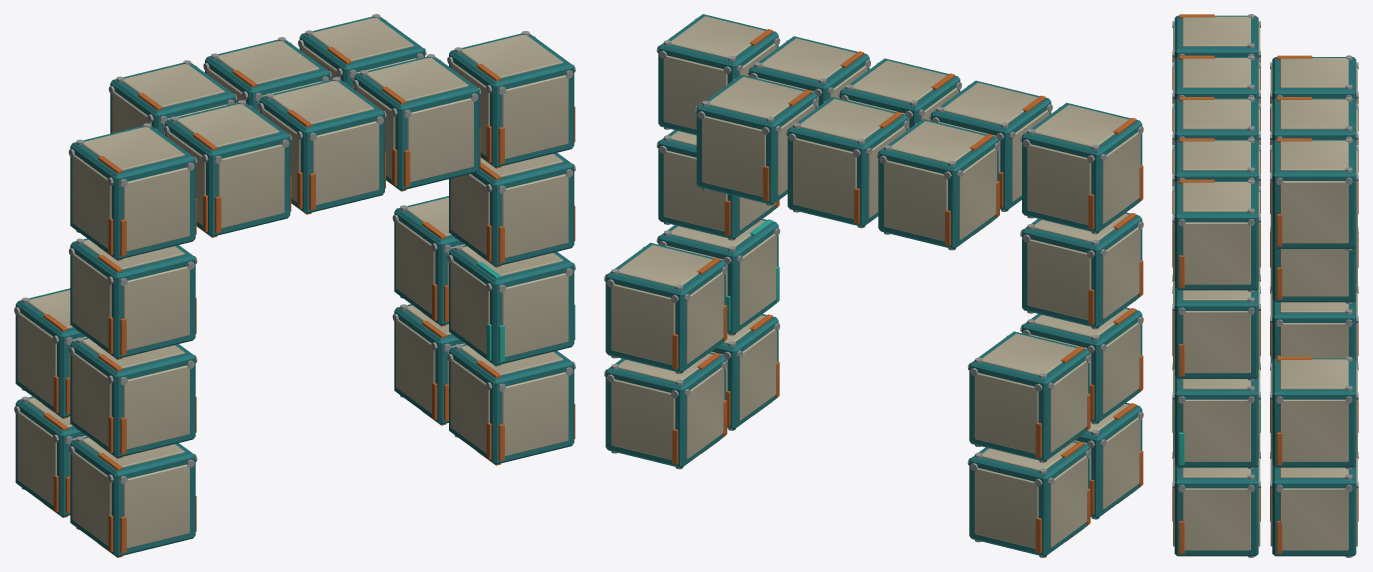
The model's file is voxel-arch02.glb.
The picture shows the model from 3 angles, left to right: view 1: azimuth 30°, elevation 25°; view 2: azimuth 150°, elevation 25°; view 3: azimuth 270°, elevation 25°; orthographic projection. The views are drawn at different scales.
Visible parts, largest first — view 1: b03__certified_body, b12__certified_body, core__certified_body, b00__certified_body, b02__certified_body, b01__certified_body, b15__certified_body, b06__certified_body, b08__certified_body, b10__certified_body, b14__certified_body, b05__certified_body (+6 smaller); view 2: b17__certified_body, b07__certified_body, b05__certified_body, b03__certified_body, b16__certified_body, b04__certified_body, b02__certified_body, b11__certified_body, b09__certified_body, b15__certified_body, b01__certified_body, core__certified_body (+6 smaller); view 3: b15__certified_body, b11__certified_body, b17__certified_body, b12__certified_body, b16__certified_body, b14__certified_body, core__certified_body, b04__certified_body, b05__certified_body, b07__certified_body, b03__certified_body, b06__certified_body (+3 smaller).
Boxes of the visible parts, bbox=[...] form: b03__certified_body: bbox=[68, 123, 197, 260]; b12__certified_body: bbox=[447, 344, 575, 465]; core__certified_body: bbox=[447, 245, 575, 366]; b00__certified_body: bbox=[68, 436, 197, 557]; b02__certified_body: bbox=[68, 238, 197, 359]; b01__certified_body: bbox=[68, 337, 197, 458]; b15__certified_body: bbox=[447, 31, 575, 168]; b06__certified_body: bbox=[163, 100, 291, 237]; b08__certified_body: bbox=[258, 77, 386, 214]; b10__certified_body: bbox=[352, 54, 481, 191]; b14__certified_body: bbox=[449, 153, 575, 267]; b05__certified_body: bbox=[14, 288, 86, 418]; b17__certified_body: bbox=[604, 242, 727, 373]; b07__certified_body: bbox=[877, 119, 1000, 250]; b05__certified_body: bbox=[967, 331, 1091, 462]; b03__certified_body: bbox=[1020, 102, 1143, 234]; b16__certified_body: bbox=[604, 352, 727, 469]; b04__certified_body: bbox=[967, 441, 1091, 557]; b02__certified_body: bbox=[1020, 212, 1143, 329]; b11__certified_body: bbox=[695, 74, 818, 205]; b09__certified_body: bbox=[786, 97, 909, 228]; b15__certified_body: bbox=[656, 14, 780, 135]; b01__certified_body: bbox=[1020, 307, 1143, 424]; core__certified_body: bbox=[656, 219, 780, 335]; b15__certified_body: bbox=[1172, 179, 1260, 291]; b11__certified_body: bbox=[1270, 138, 1358, 250]; b17__certified_body: bbox=[1270, 356, 1358, 469]; b12__certified_body: bbox=[1172, 452, 1260, 557]; b16__certified_body: bbox=[1270, 452, 1358, 557]; b14__certified_body: bbox=[1172, 275, 1260, 380]; core__certified_body: bbox=[1172, 363, 1260, 469]; b04__certified_body: bbox=[1270, 286, 1358, 363]; b05__certified_body: bbox=[1270, 227, 1358, 303]; b07__certified_body: bbox=[1270, 55, 1358, 131]; b03__certified_body: bbox=[1172, 14, 1260, 90]; b06__certified_body: bbox=[1172, 55, 1260, 131].
Bounding box in the file's own units: 2.45 × 1.95 × 0.954.
